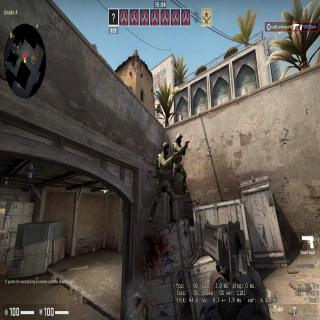CT-Body: (151, 140, 175, 218), (172, 132, 187, 192)
CT-Head: (162, 142, 169, 156), (177, 133, 183, 144)
